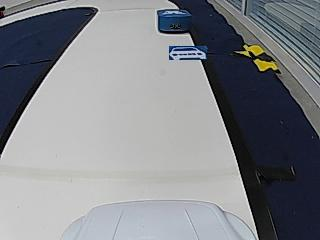prop: (157, 9, 192, 35)
